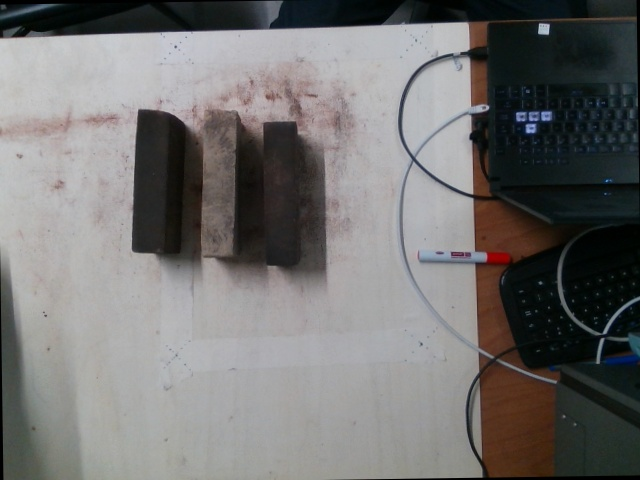brick-side: (200, 113, 238, 255), (129, 112, 165, 254), (262, 120, 296, 261)
